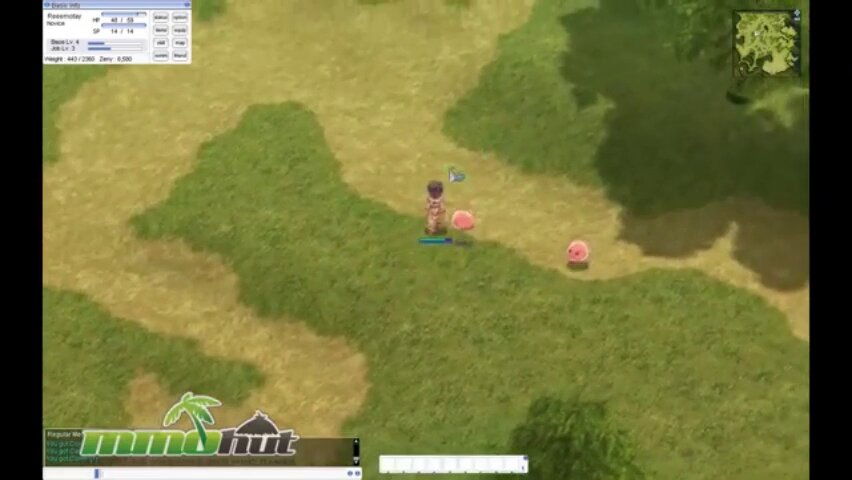Monster01: (562, 229, 601, 271), (448, 204, 483, 235)
